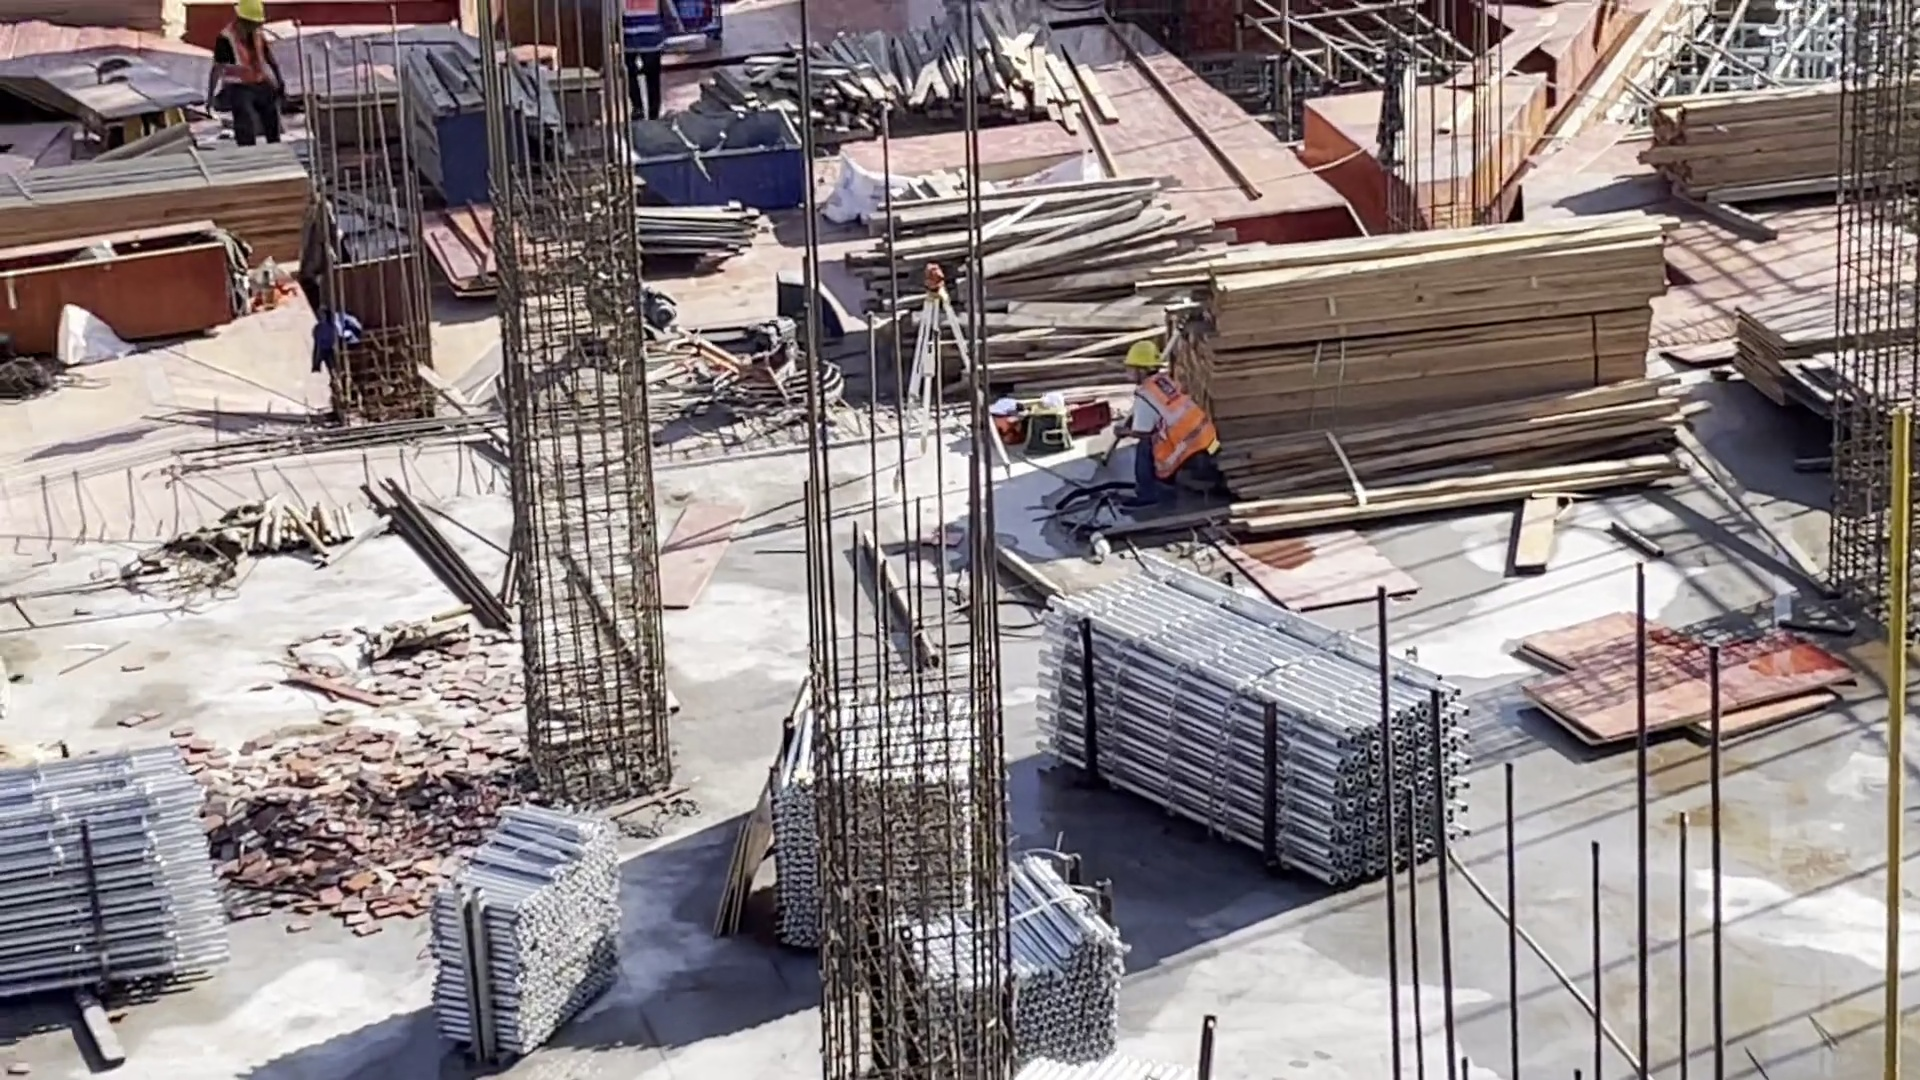board: (1731, 272, 1920, 407)
helmet: (1131, 340, 1162, 371), (235, 3, 259, 24)
hopper: (627, 107, 808, 203)
person: (1125, 337, 1226, 519), (208, 1, 292, 149), (618, 2, 684, 124)
scaffold: (773, 676, 1192, 1080), (1040, 557, 1473, 898), (4, 750, 231, 1004), (435, 801, 625, 1052)
vest: (1137, 373, 1214, 476), (224, 28, 269, 86)
wood: (1135, 203, 1687, 528), (872, 182, 1188, 400), (729, 7, 1102, 135), (1647, 77, 1920, 218), (9, 145, 307, 255)
